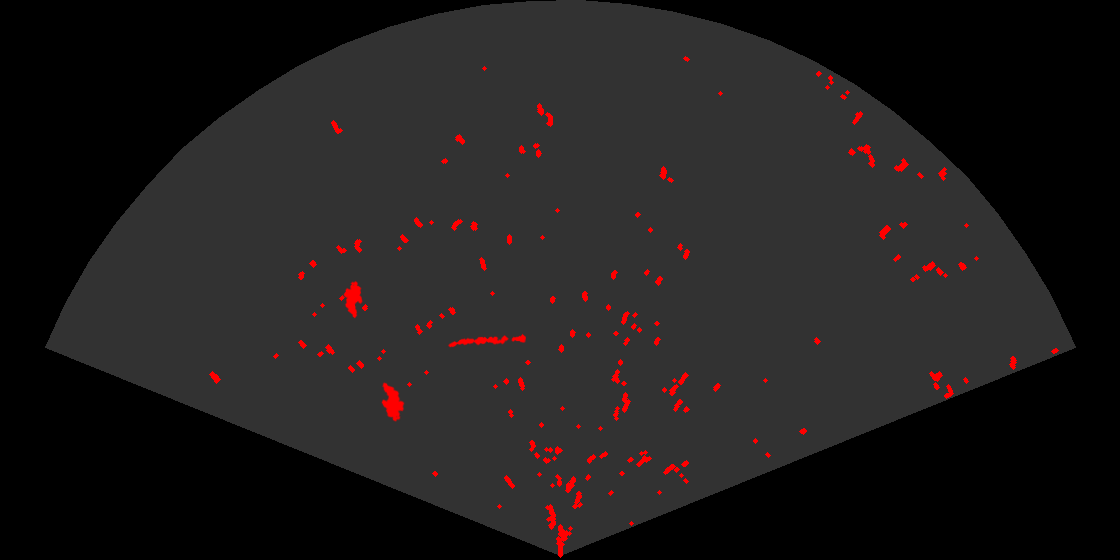AUV: (380, 381, 406, 423), (342, 279, 364, 320)
chain: (446, 332, 526, 349)
